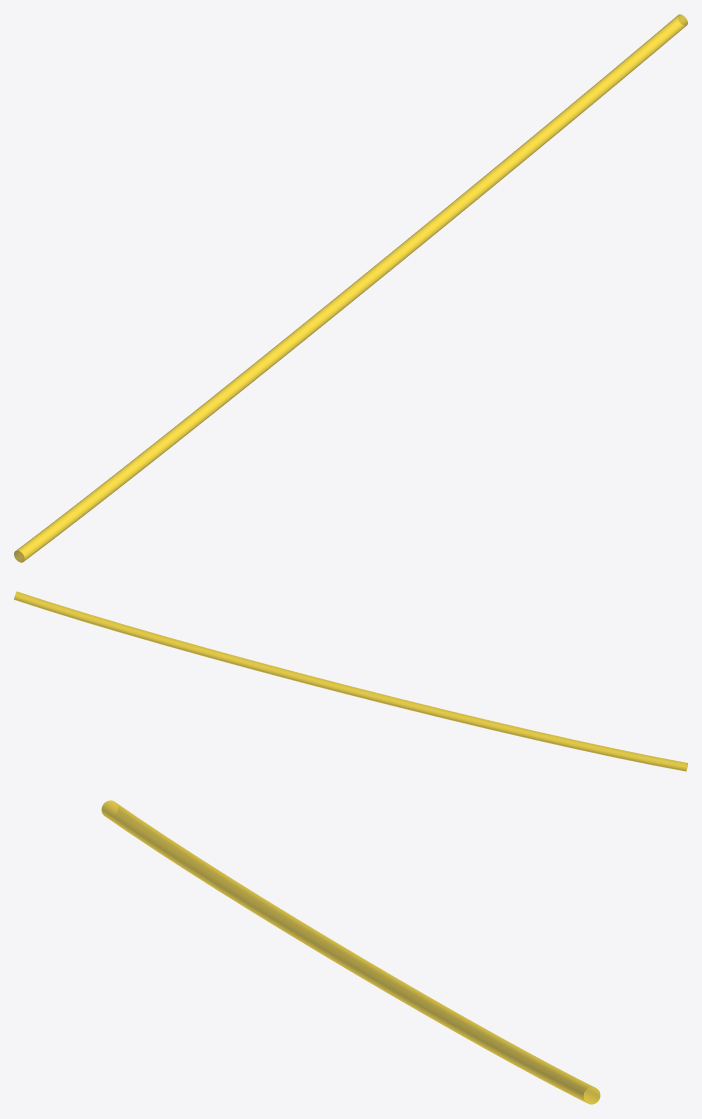
Rendered from Event_15818458_track_70.fbx.
3 views of the same model, one above another, from view 1: azimuth 30°, elevation 25°; view 2: azimuth 150°, elevation 25°; view 3: azimuth 270°, elevation 25° (orthographic). The views are drawn at different scales.
Visible parts, largest first — view 1: Model; view 2: Model; view 3: Model.
Part boxes in pixels (bbox=[...]): Model: bbox=[14, 14, 687, 562]; Model: bbox=[14, 591, 687, 771]; Model: bbox=[101, 800, 600, 1104].
Size of the model in its own units: 2.89 by 0.6637 by 1.12.
